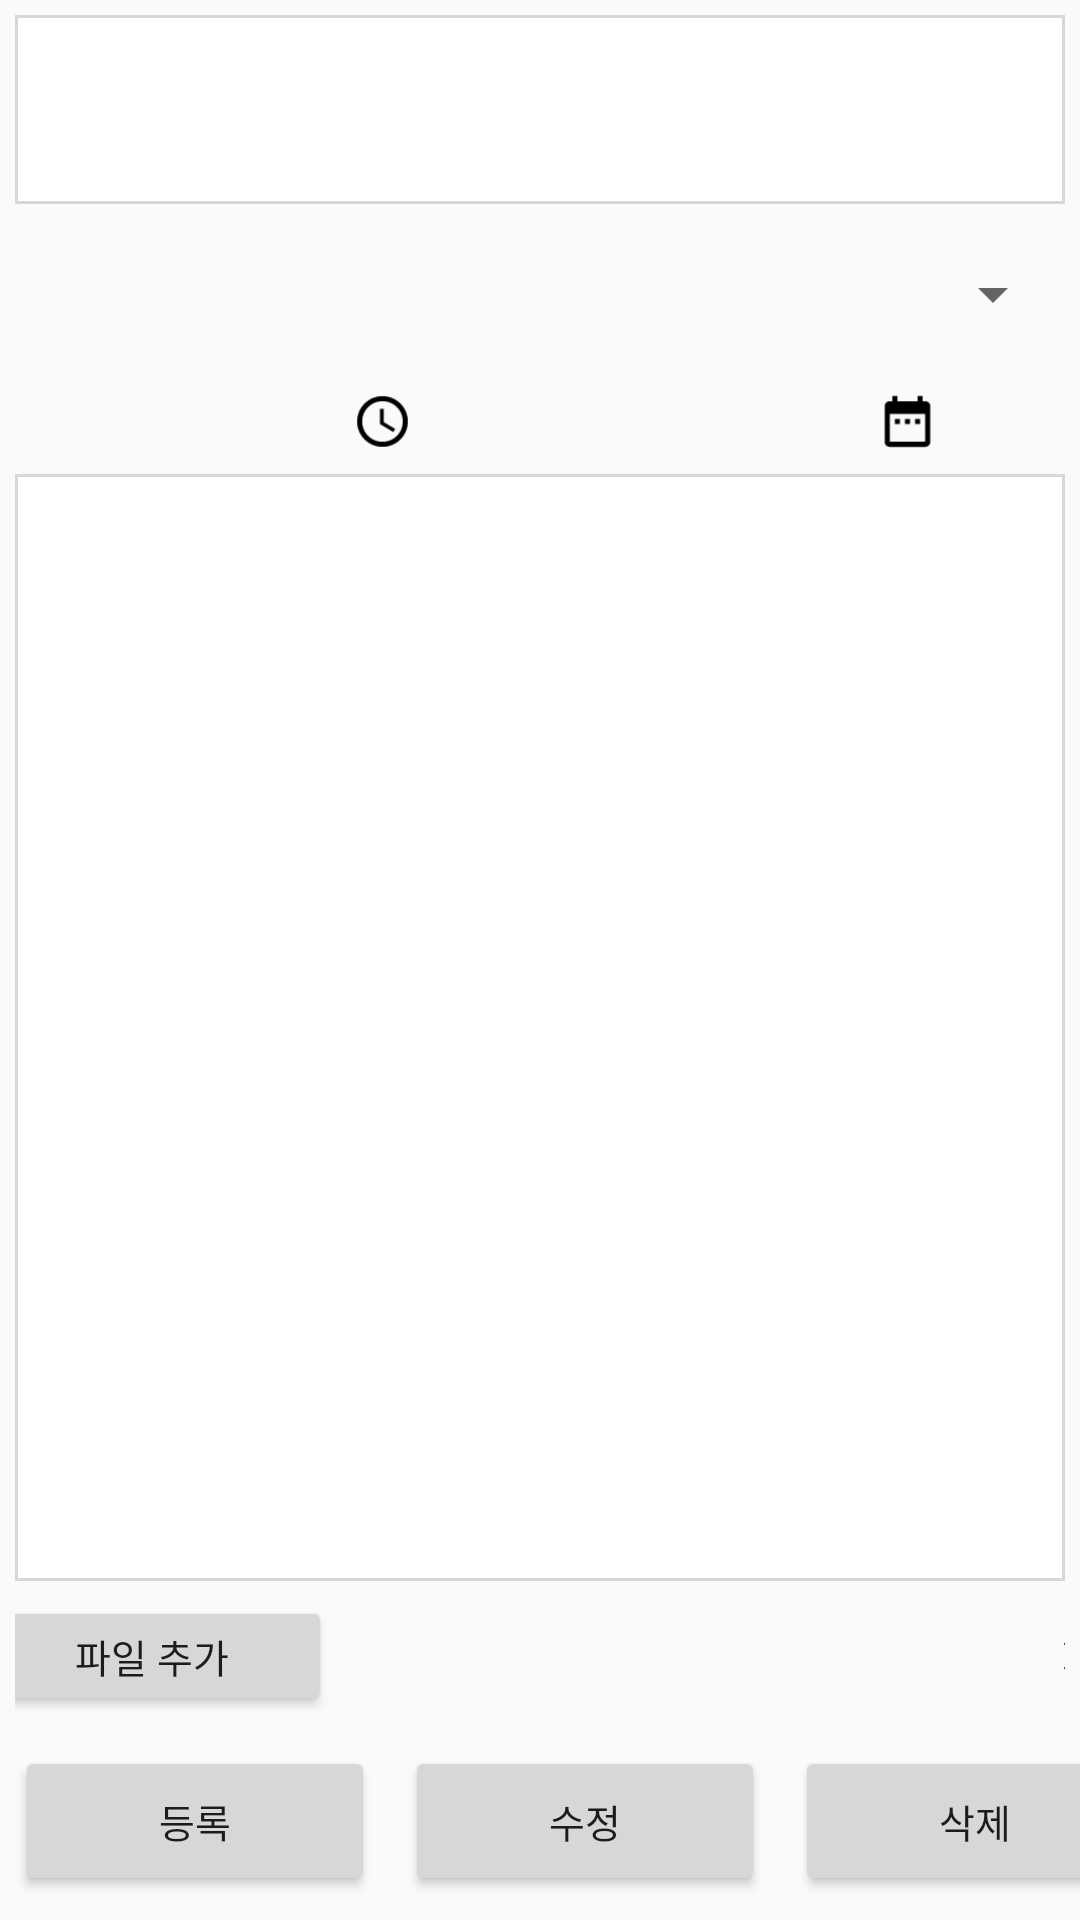

Named icons in this screenshot (1080*1920) and their centers, (x,y):
calendar: (907,421)
time: (382,421)
